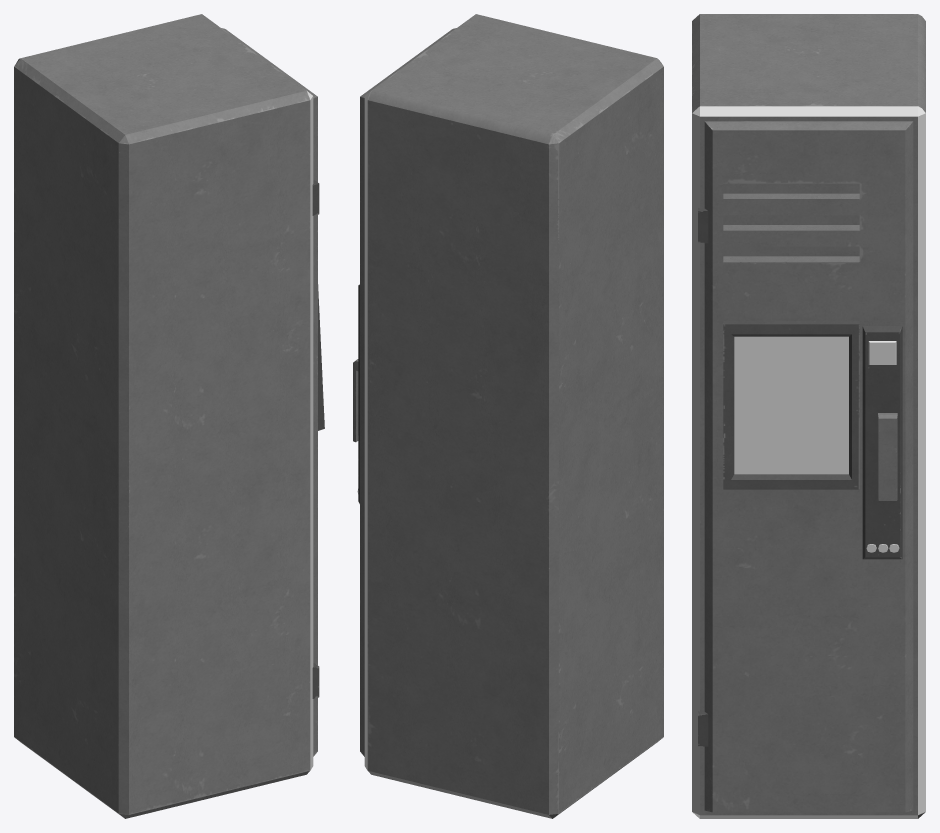
The model's file is Locker.fbx.
3 renders of one model, left to right at view 1: azimuth 30°, elevation 25°; view 2: azimuth 150°, elevation 25°; view 3: azimuth 270°, elevation 25°, orthographic. The views are drawn at different scales.
Visible parts, largest first — view 1: Locker; view 2: Locker; view 3: Locker.
Boxes of the visible parts, x1=… form: Locker: x1=14, y1=14, x2=324, y2=818; Locker: x1=353, y1=14, x2=663, y2=818; Locker: x1=692, y1=14, x2=925, y2=818.
Bounding box in the file's own units: 101 × 304 × 90.24.
